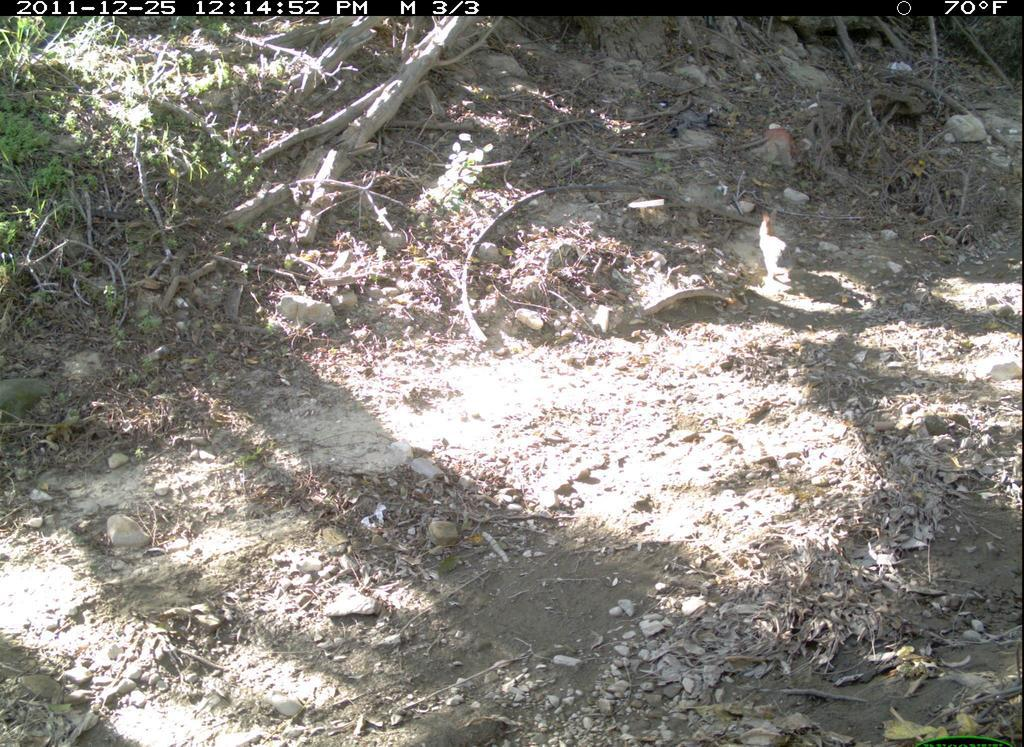rabbit: (756, 204, 807, 299)
